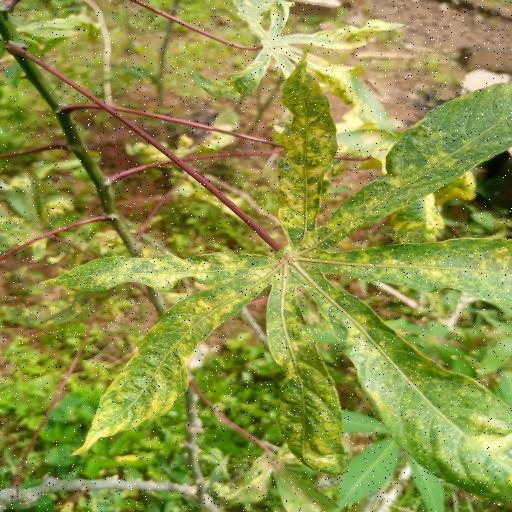Cassava_Mosaic: (28, 54, 512, 503), (193, 0, 412, 111)
